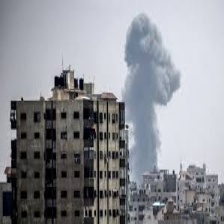smoke: (123, 16, 183, 176)
